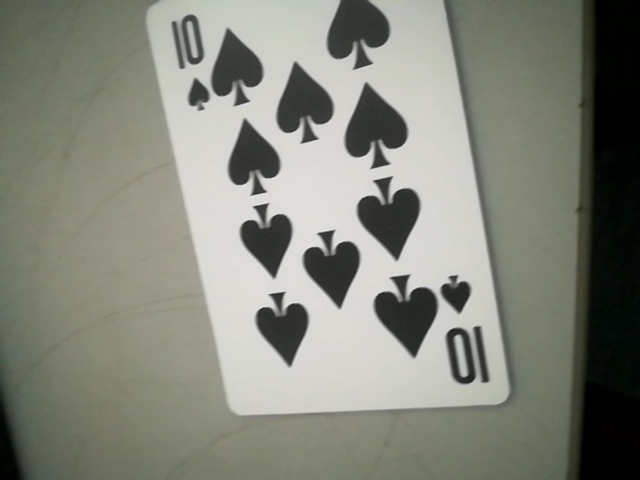ht 10: (158, 8, 234, 128), (438, 275, 494, 397)
